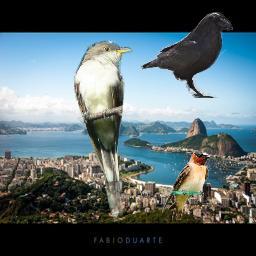Crow: (140, 12, 233, 98)
Cuckoo: (74, 40, 133, 222)
Swallow: (162, 151, 211, 220)
